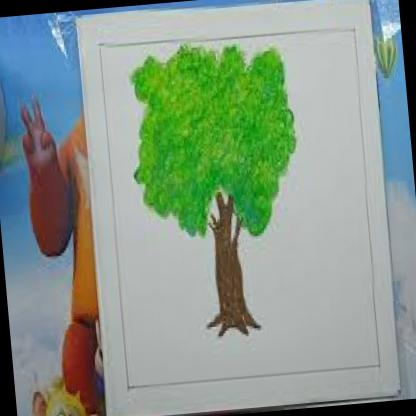branch_cut: (199, 184, 246, 246)
crown_cloud: (124, 35, 306, 250)
root_only: (204, 306, 264, 344)
trunk_straight: (212, 252, 248, 303)
